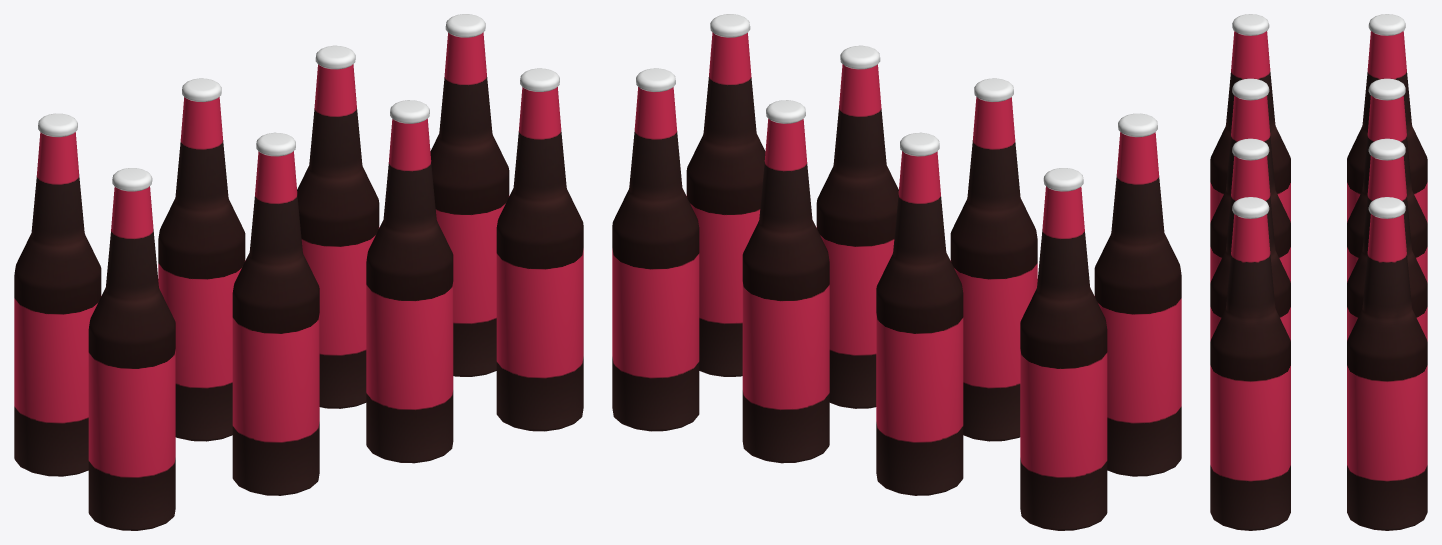
The model's file is Bottles01_8.FBX.
3 renders of one model, left to right at view 1: azimuth 30°, elevation 25°; view 2: azimuth 150°, elevation 25°; view 3: azimuth 270°, elevation 25°, orthographic. The views are drawn at different scales.
Visible parts, largest first — view 1: Bottles01_8; view 2: Bottles01_8; view 3: Bottles01_8.
Part boxes in pixels (box(x1,y1,x2,y2)): Bottles01_8: box(14, 14, 583, 530); Bottles01_8: box(612, 14, 1181, 530); Bottles01_8: box(1210, 14, 1427, 530).
Bounding box in the file's own units: 43.67 × 29.45 × 18.47.
